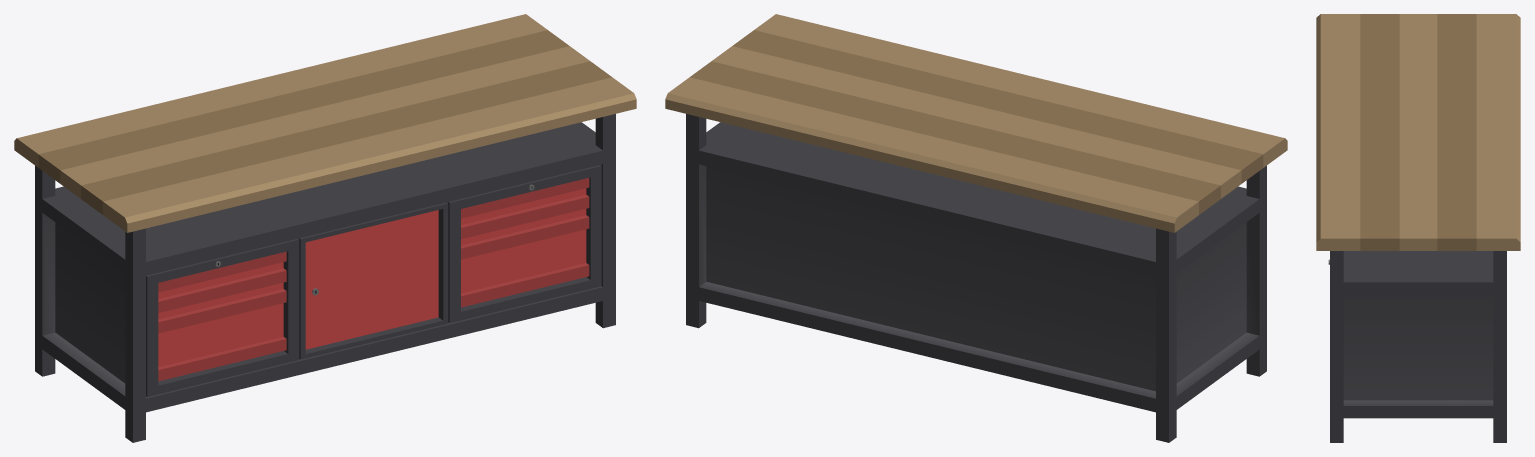
Rendered from Table1.fbx.
3 views of the same model, side by side, from view 1: azimuth 30°, elevation 25°; view 2: azimuth 150°, elevation 25°; view 3: azimuth 270°, elevation 25° (orthographic). The views are drawn at different scales.
Visible parts, largest first — view 1: isl_Workbench_01_Def.obj; view 2: isl_Workbench_01_Def.obj; view 3: isl_Workbench_01_Def.obj.
Part boxes in pixels (<box>): isl_Workbench_01_Def.obj: <box>14,14,636,442</box>; isl_Workbench_01_Def.obj: <box>665,14,1287,442</box>; isl_Workbench_01_Def.obj: <box>1316,14,1520,442</box>.
Size of the model in its own units: 195 by 85 by 75.
